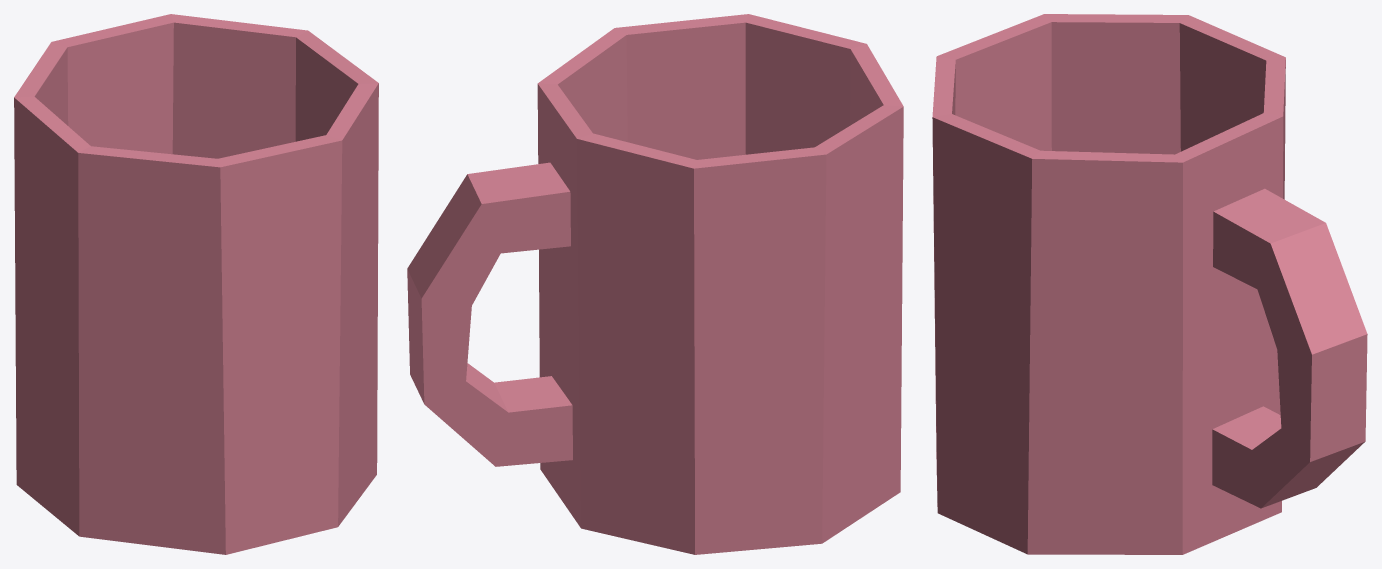
Rendered from Livingroom2_Cup.fbx.
3 views of the same model, side by side, from view 1: azimuth 30°, elevation 25°; view 2: azimuth 150°, elevation 25°; view 3: azimuth 270°, elevation 25° (orthographic). The views are drawn at different scales.
Parts seen in each view (by area): view 1: Livingroom2_Cup; view 2: Livingroom2_Cup; view 3: Livingroom2_Cup.
Part boxes in pixels (x1,y1,x2,y2): Livingroom2_Cup: [14, 14, 378, 554]; Livingroom2_Cup: [407, 14, 903, 554]; Livingroom2_Cup: [932, 14, 1367, 554].
Bounding box in the file's own units: 14 × 14.14 × 14.52.
